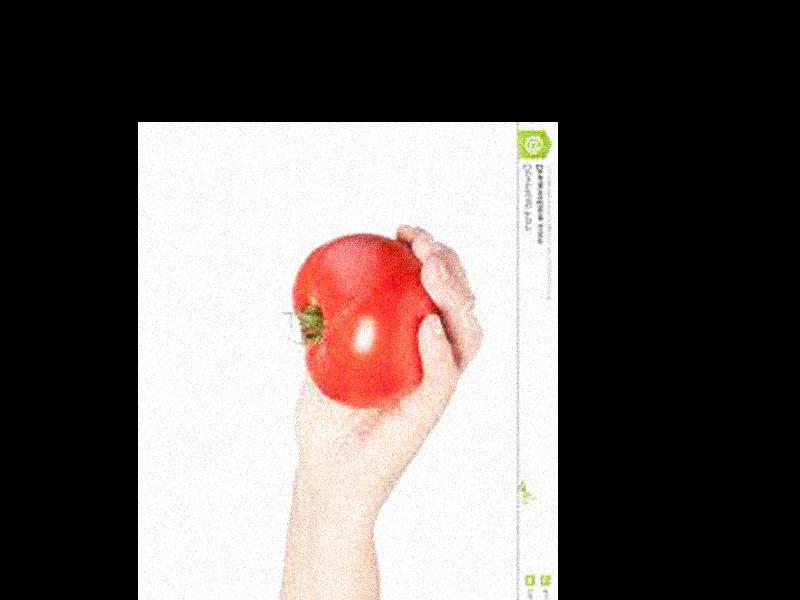Tomato: (290, 233, 438, 410)
